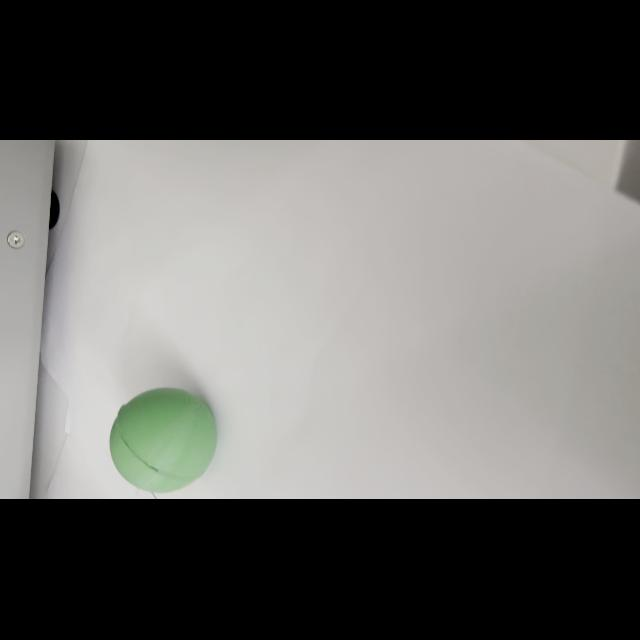objects: (107, 384, 220, 496)
